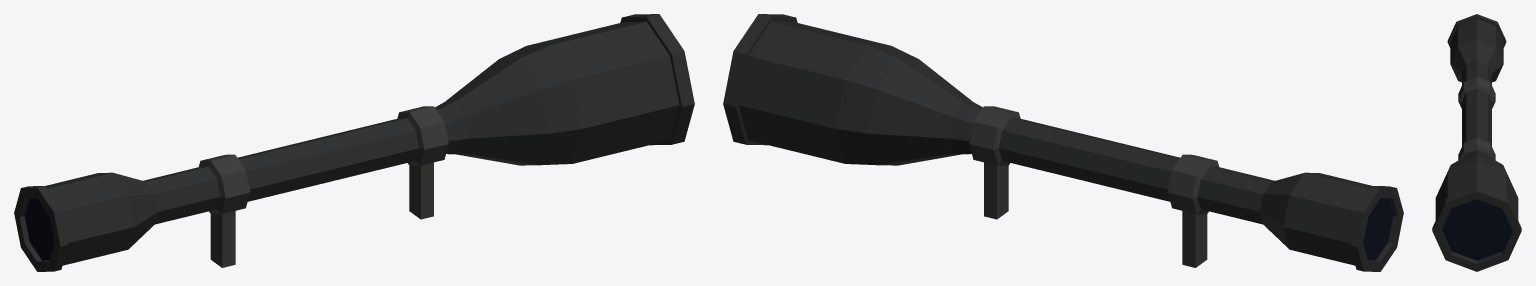
The model's file is scope_3.glb.
The picture shows the model from 3 angles, left to right: view 1: azimuth 30°, elevation 25°; view 2: azimuth 150°, elevation 25°; view 3: azimuth 270°, elevation 25°; orthographic projection. The views are drawn at different scales.
Visible parts, largest first — view 1: Scope_3_Cylinder.043; view 2: Scope_3_Cylinder.043; view 3: Scope_3_Cylinder.043.
Part boxes in pixels (x1,y1,x2,y2): Scope_3_Cylinder.043: [14, 14, 694, 271]; Scope_3_Cylinder.043: [723, 14, 1403, 271]; Scope_3_Cylinder.043: [1432, 14, 1521, 271].
Size of the model in its own units: 1.92 by 0.4187 by 0.3785.
